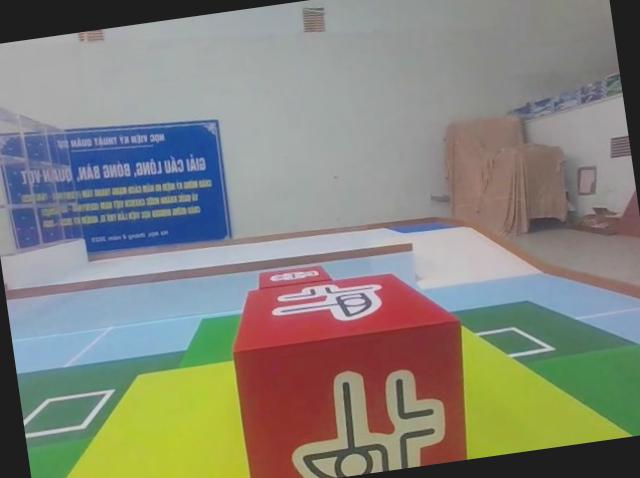R2 Real: (218, 258, 481, 478)
